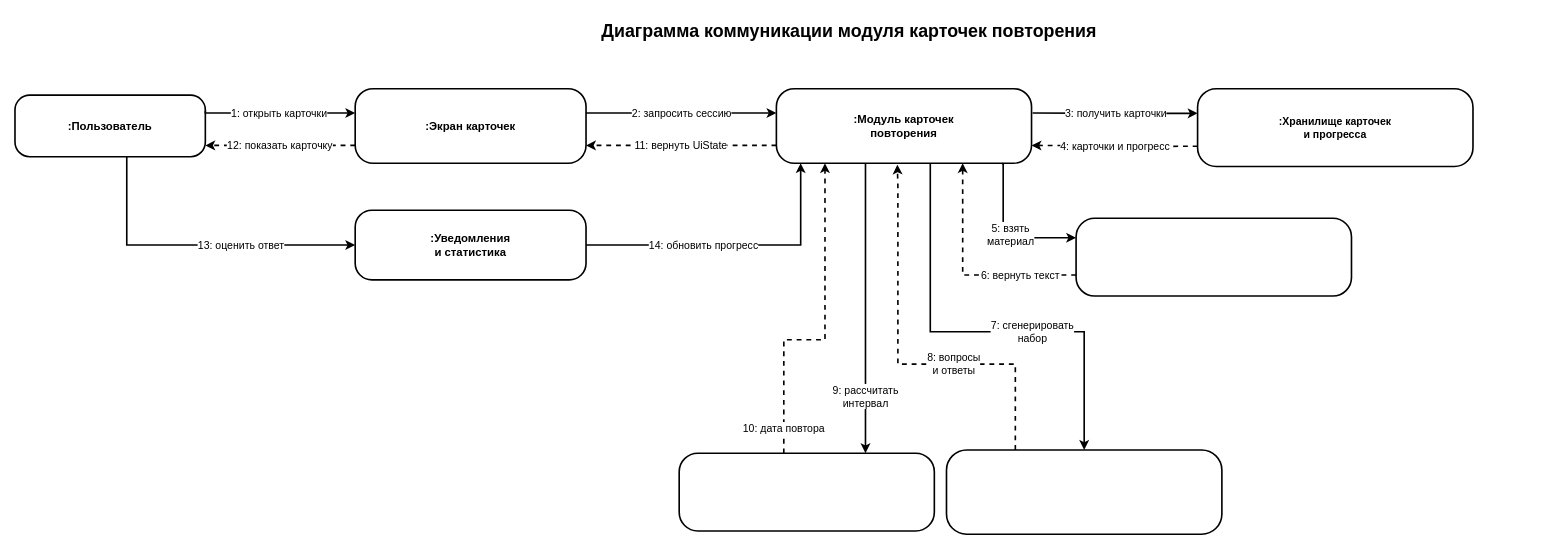
This 1551x548 diagram has some shape labels left out. Each missing label, with the centre of its shape:
":AIService генерация вопросов и ответов" belongs at pixel 1083 492.
":Материалы конспекты / PDF" belongs at pixel 1213 256.
":Планировщик повторений" belongs at pixel 806 491.
